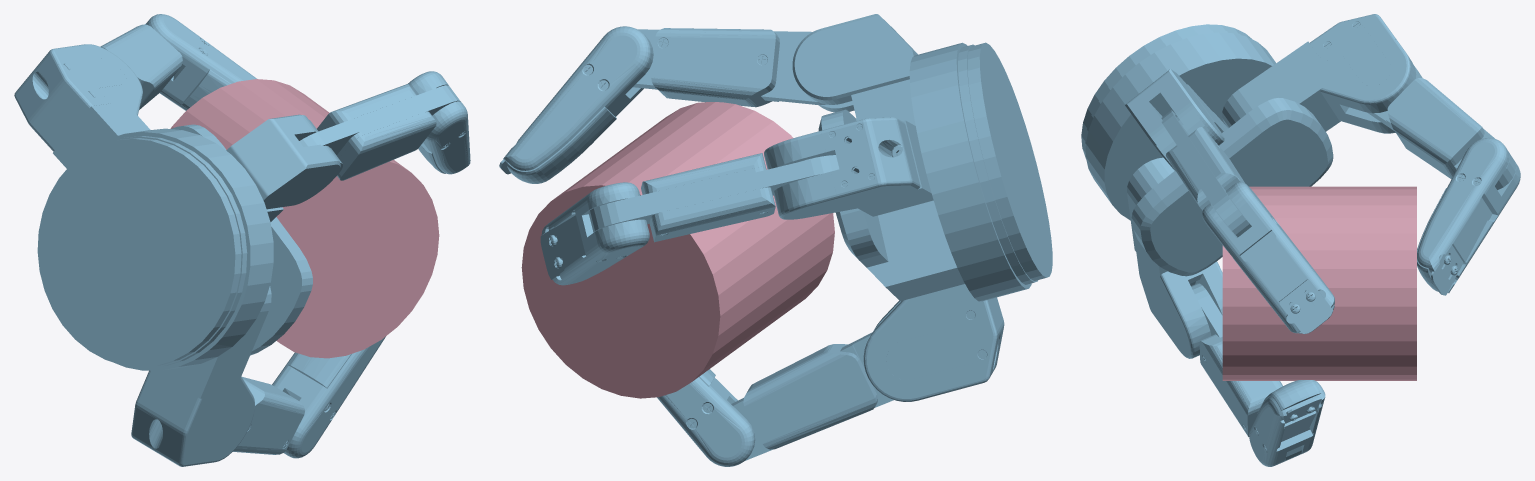
The picture shows the model from 3 angles, left to right: view 1: azimuth 30°, elevation 25°; view 2: azimuth 150°, elevation 25°; view 3: azimuth 270°, elevation 25°; orthographic projection. The views are drawn at different scales.
Parts seen in each view (by area): view 1: world; view 2: world; view 3: world.
Boxes of the visible parts, bbox=[...] form: world: bbox=[14, 14, 470, 466]; world: bbox=[499, 14, 1052, 466]; world: bbox=[1081, 14, 1520, 466].
Bounding box in the file's own units: 0.1963 × 0.1671 × 0.1808.
